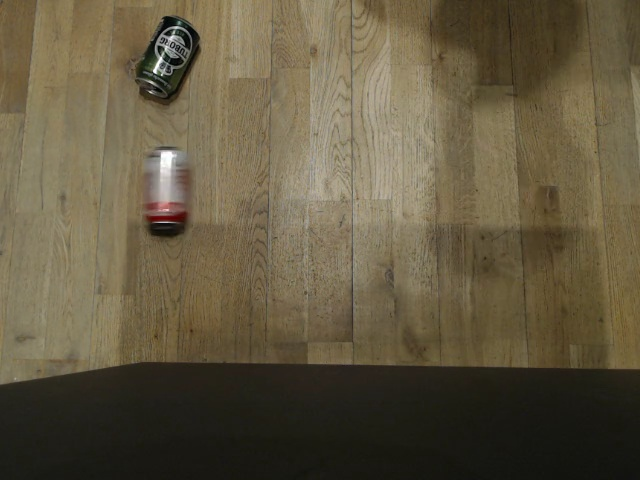beer: (133, 13, 203, 100)
cola: (140, 145, 193, 233)
